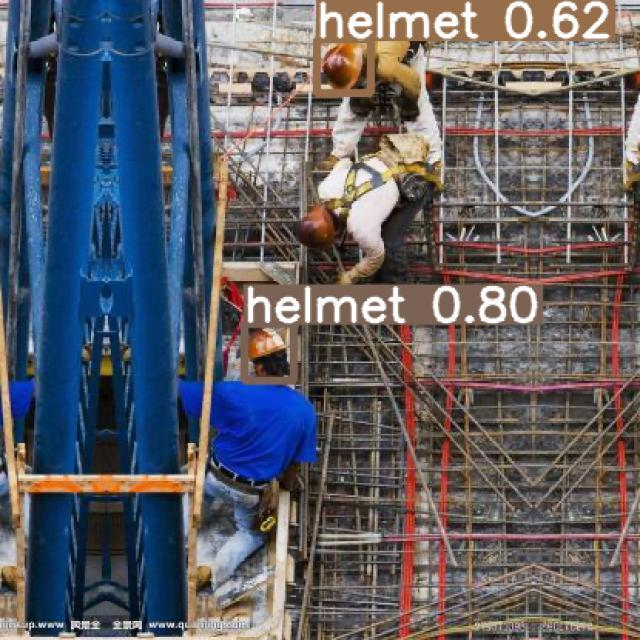Helmet: (321, 42, 363, 90), (295, 203, 336, 249), (247, 326, 287, 361)
